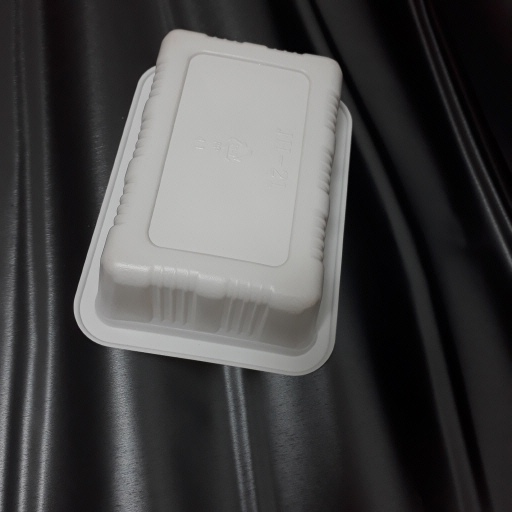Plastic_4: (71, 30, 354, 379)
